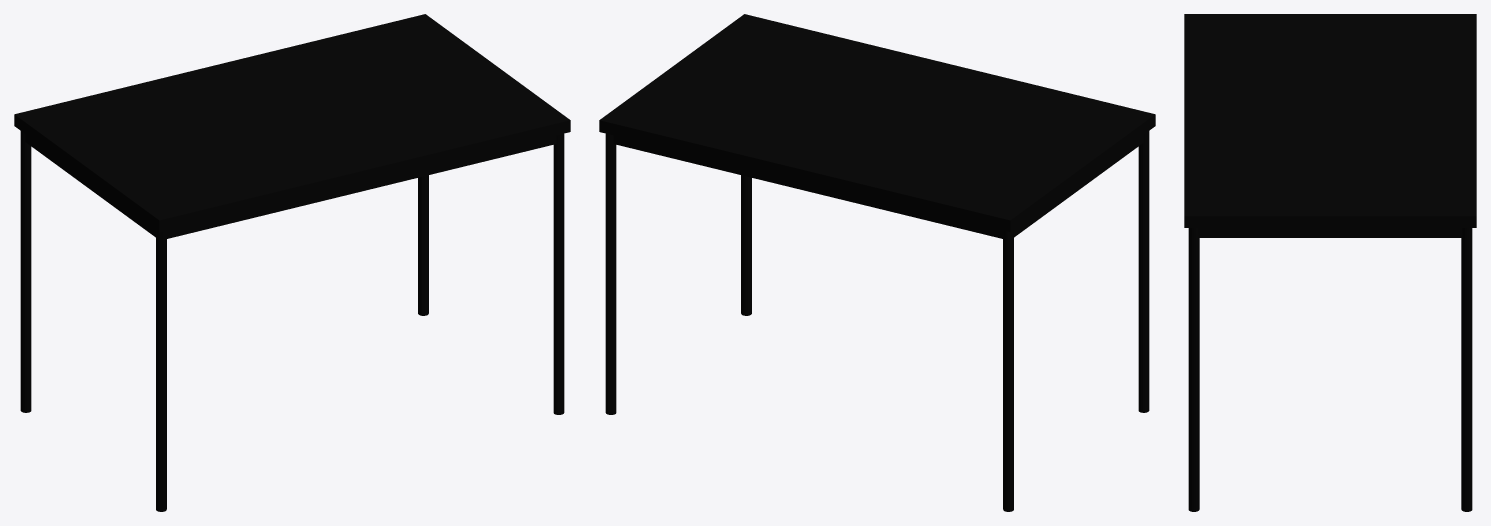
The model's file is table.glb.
3 renders of one model, left to right at view 1: azimuth 30°, elevation 25°; view 2: azimuth 150°, elevation 25°; view 3: azimuth 270°, elevation 25°, orthographic.
Visible parts, largest first — view 1: Table; view 2: Table; view 3: Table.
Part boxes in pixels (x1,y1,x2,y2): Table: (14,14,570,511); Table: (599,14,1155,511); Table: (1184,14,1476,511).
Size of the model in its own units: 1.1 by 0.75 by 0.6699.
Materials: 2 (1 with a texture image).
